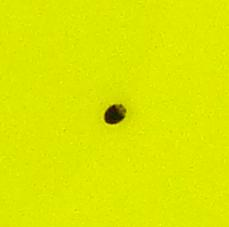Coleoptera: (100, 100, 129, 127)
